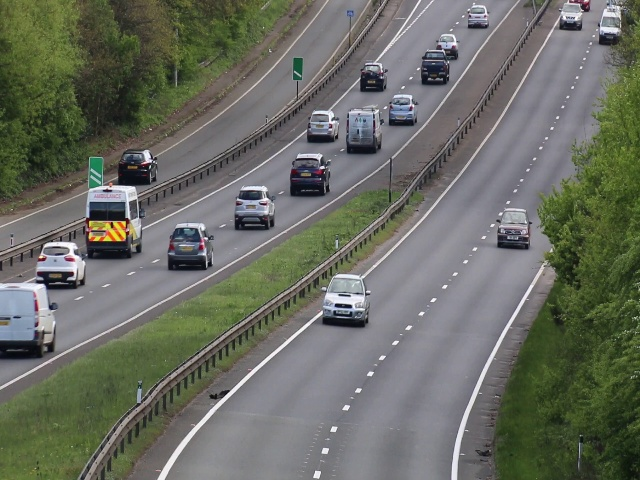car: (1, 281, 57, 353), (86, 187, 144, 256), (319, 271, 371, 326), (36, 237, 86, 293), (168, 217, 214, 274), (231, 180, 276, 232), (343, 107, 385, 152), (288, 151, 331, 194), (496, 205, 532, 249), (116, 148, 158, 184), (386, 91, 419, 126), (597, 2, 623, 45), (306, 108, 337, 140), (359, 63, 388, 91), (436, 31, 461, 58), (466, 3, 491, 30), (559, 3, 582, 31)
